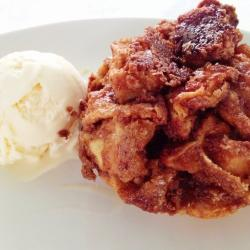apple_pie: (84, 15, 250, 222)
icecream: (1, 49, 95, 183)
